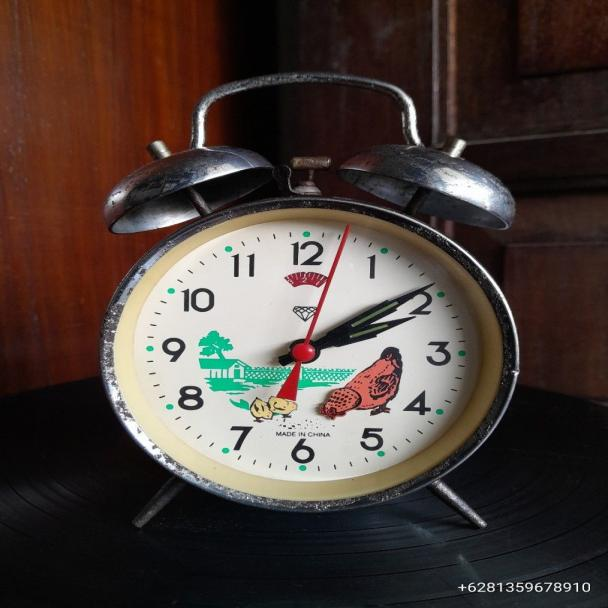Jam: (94, 71, 521, 531)
